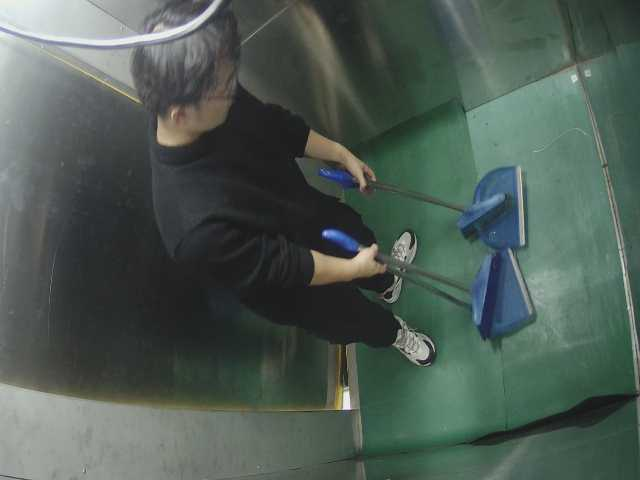broom: (316, 218, 560, 342), (316, 137, 567, 252)
person: (127, 2, 451, 380)
